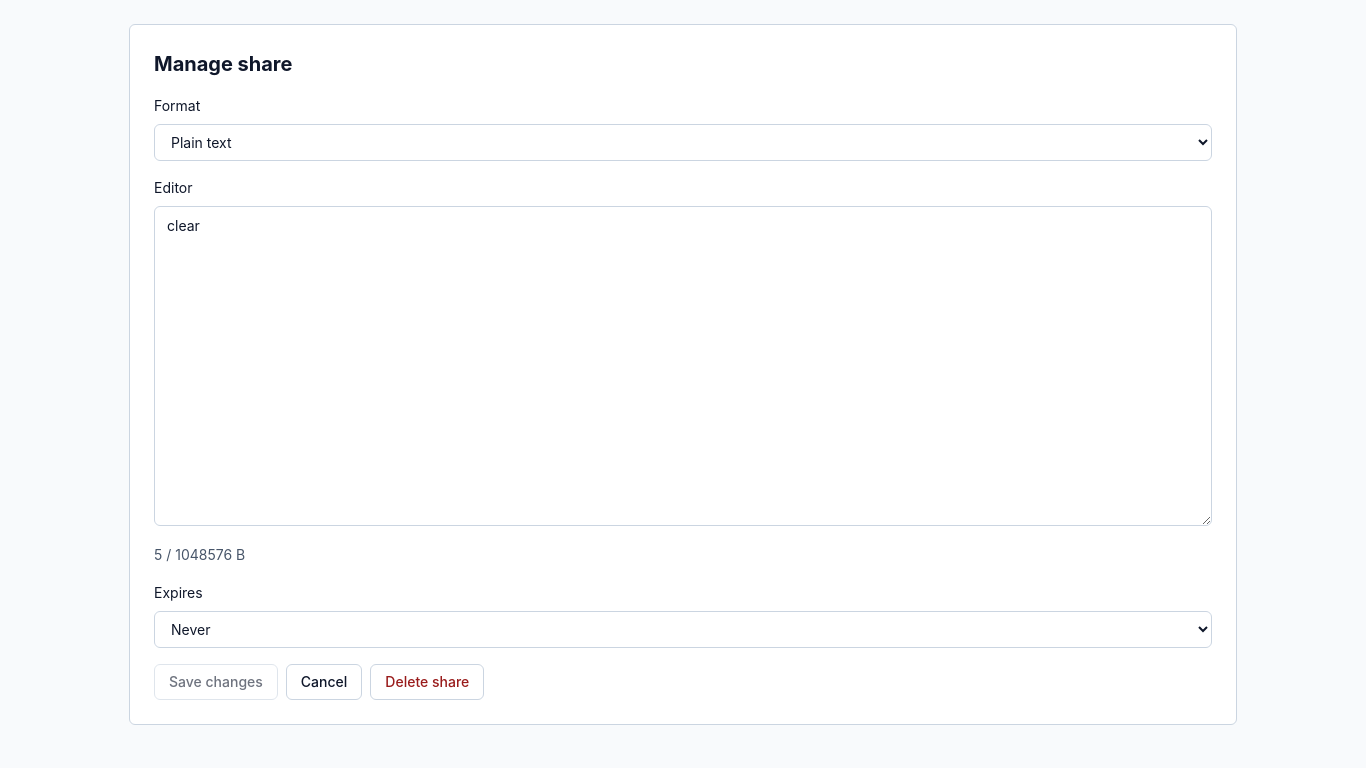
Test: ManageRoute state regressions › does not PATCH after local encryption failure
Replace the text in the text box labelled "Editor" with "draft" at (683, 366), box [154,206,1212,526]
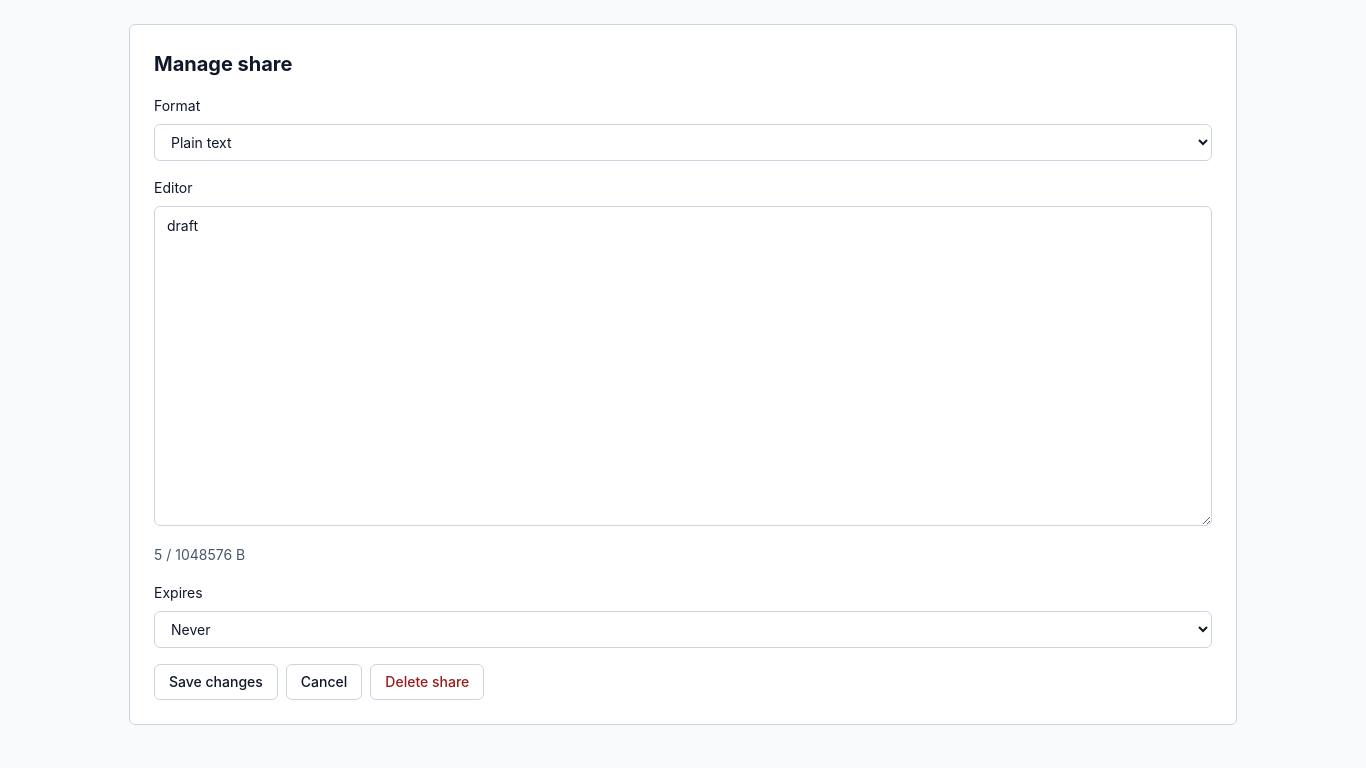
Click the button "Save changes" at (216, 682), box [154,664,278,700]
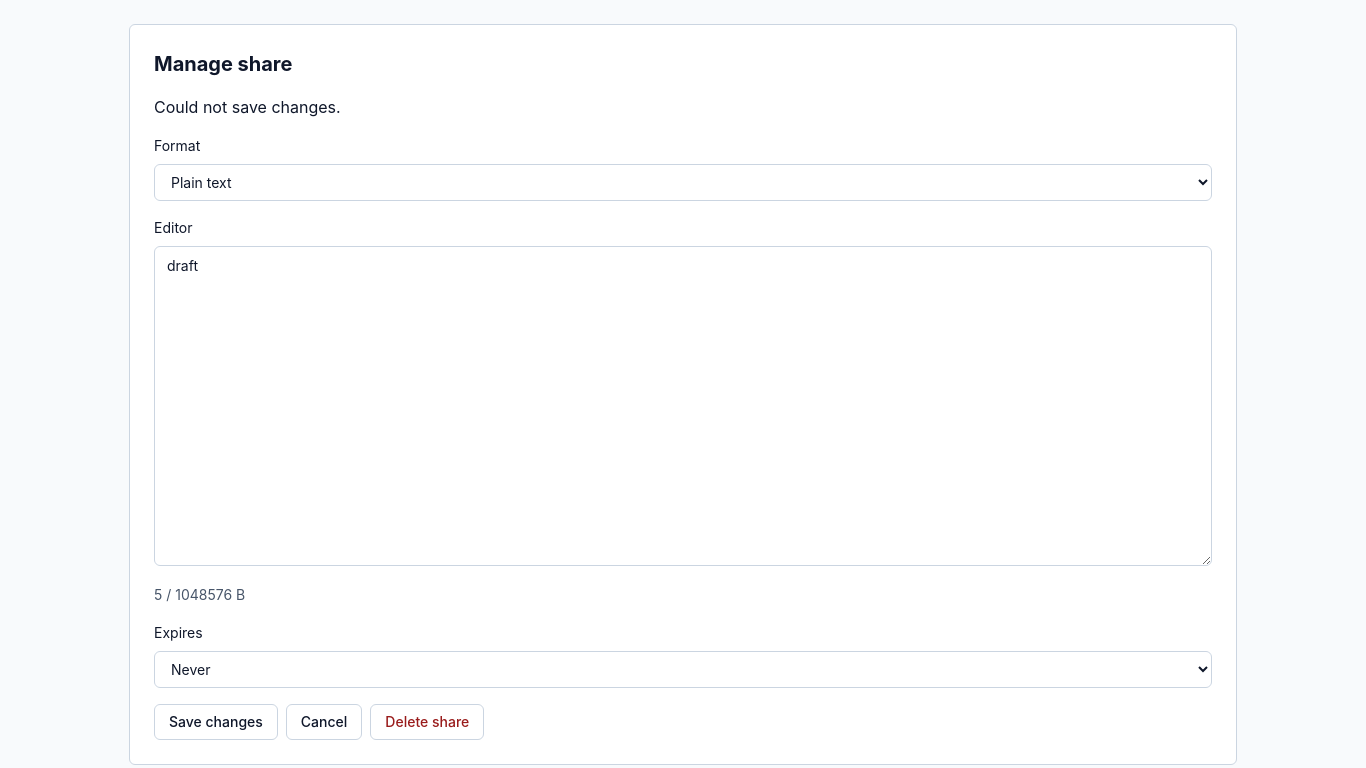
Expected: the text "Could not save changes." is shown, [154,97,341,117]
